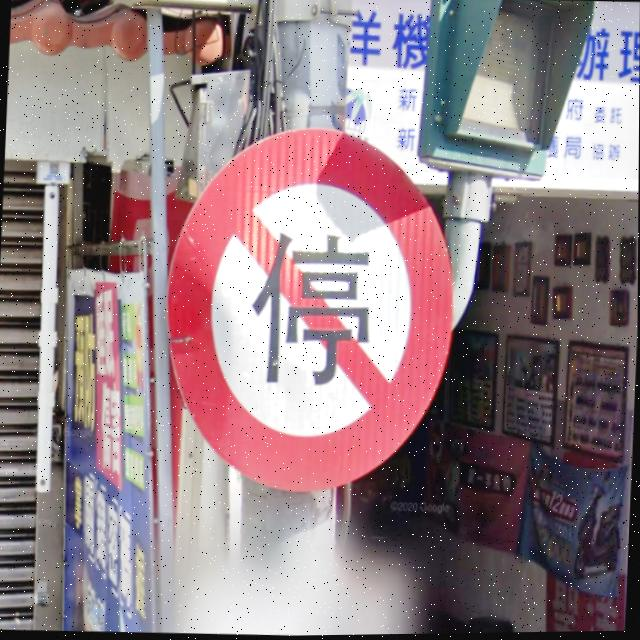nopark: (157, 120, 463, 499)
